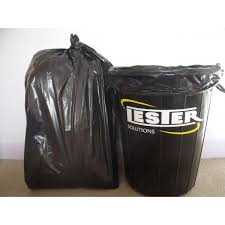Trash: (15, 29, 124, 191)
